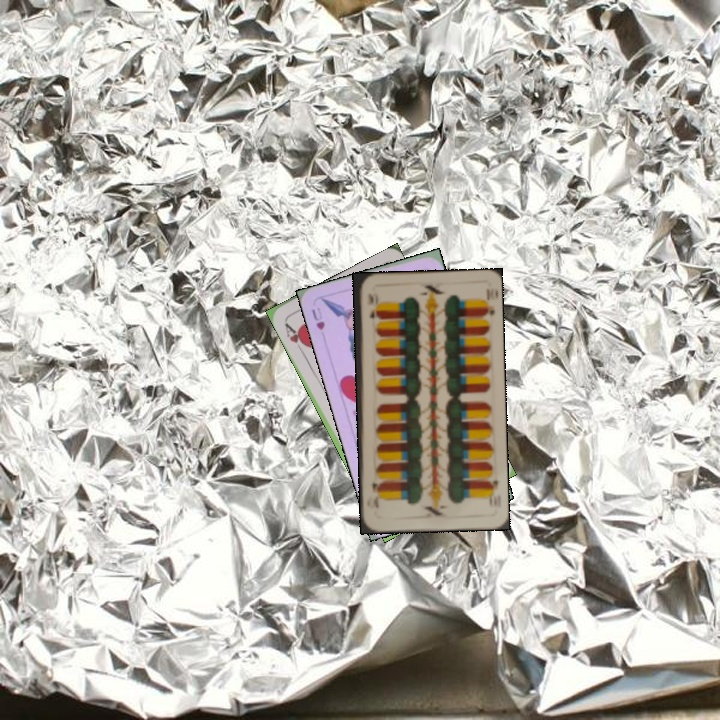E10: (483, 476, 501, 508), (362, 289, 377, 321)
HA: (280, 317, 309, 355)
HU: (308, 303, 328, 332)
